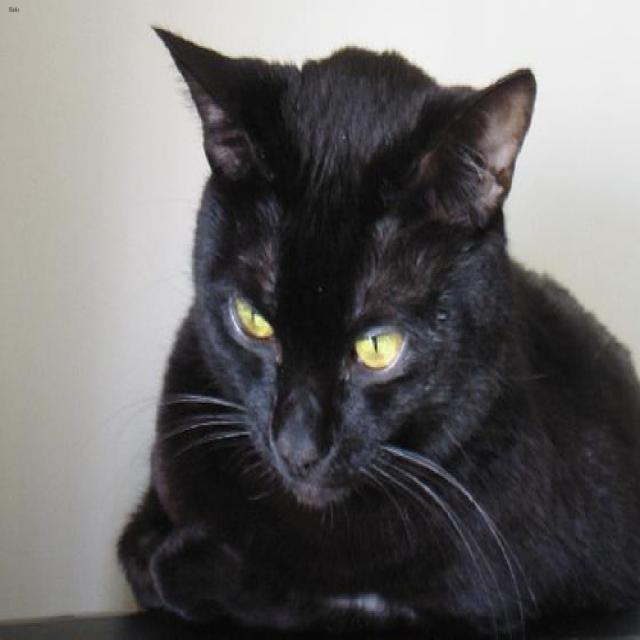Bombay: (146, 20, 535, 517)
